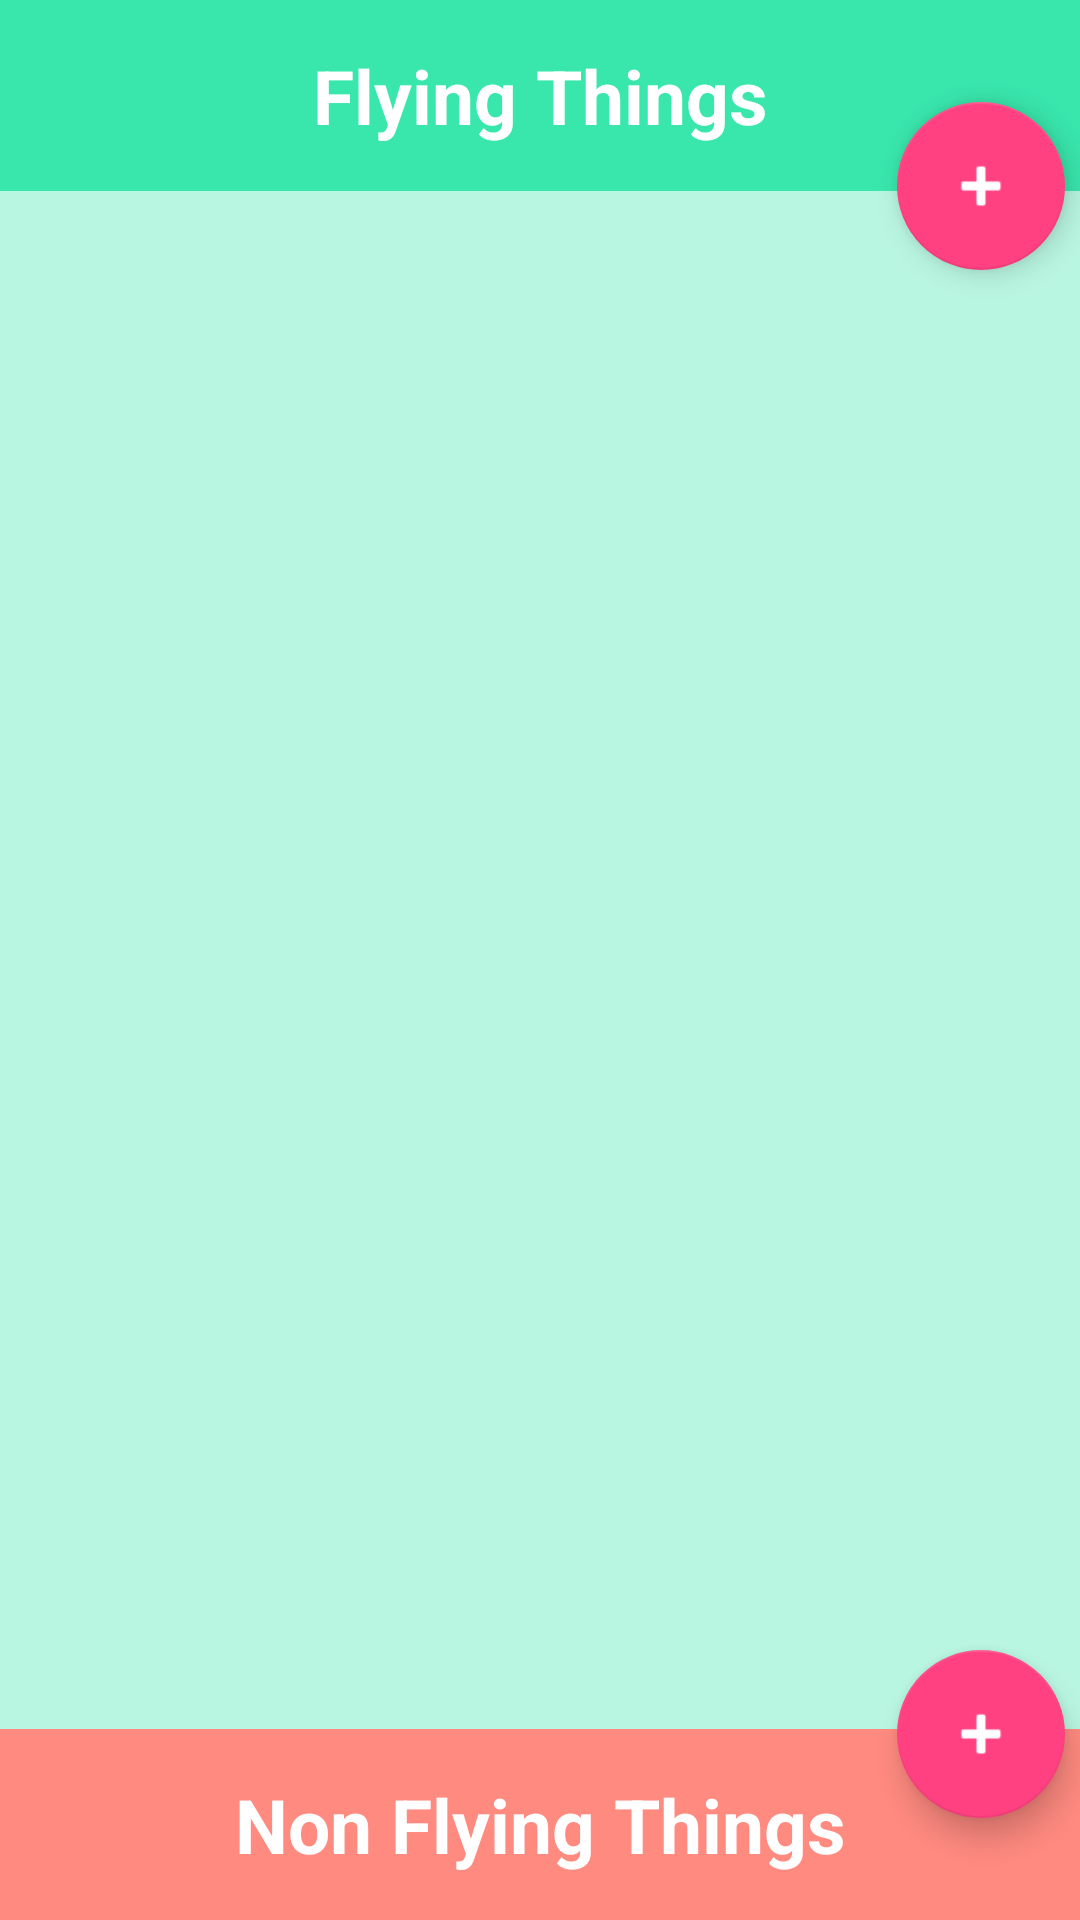

Screen size 1080 x 1920. Icon name, then its center in pixels as point (x, y):
add: point (981, 186), point (981, 1734)
